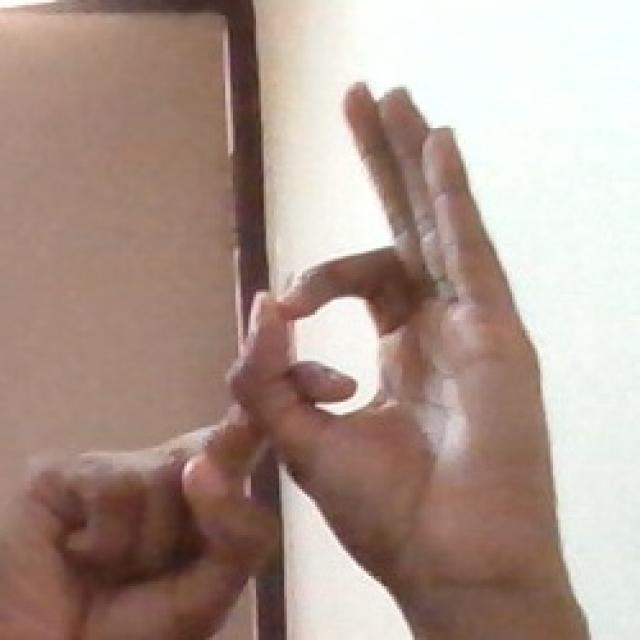Alphabet-Q: (21, 69, 560, 640)
